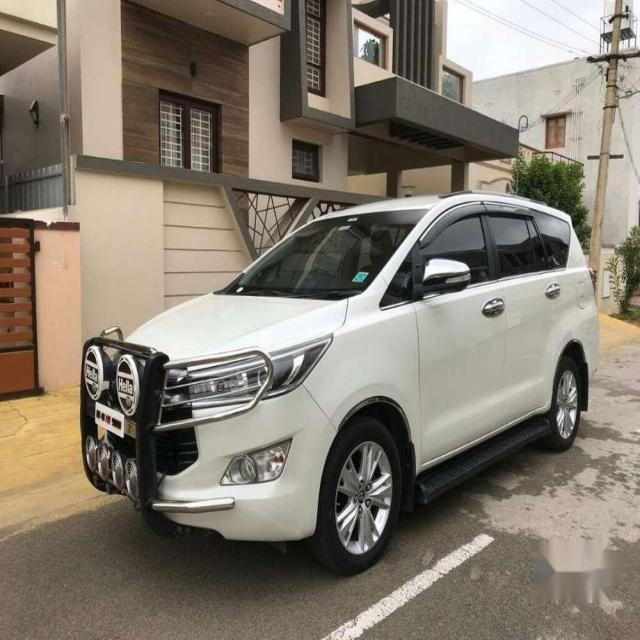light_vehicle: (79, 191, 600, 576)
